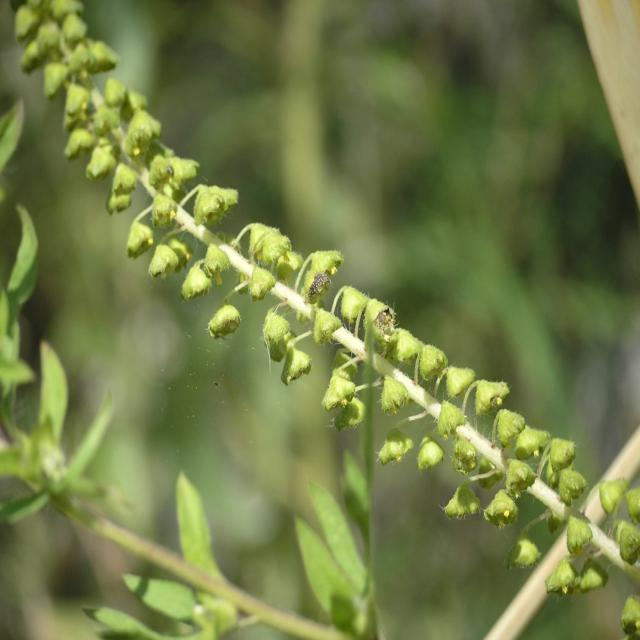ambrosia: (16, 0, 632, 612)
